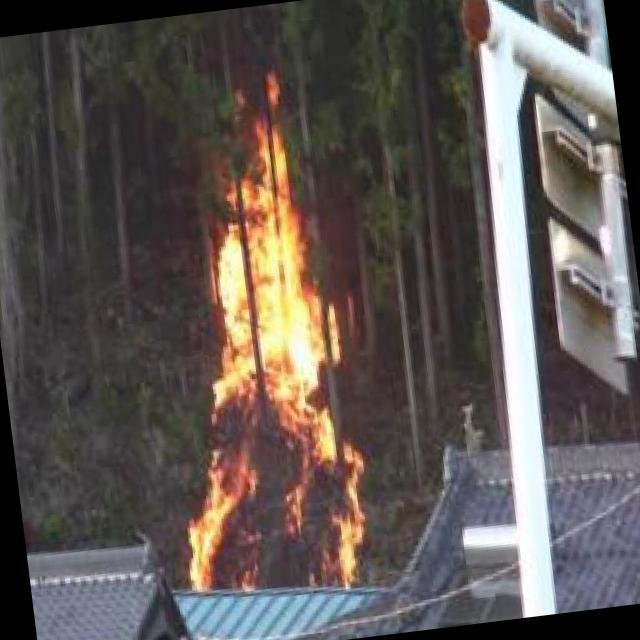Fire: (109, 53, 379, 609)
